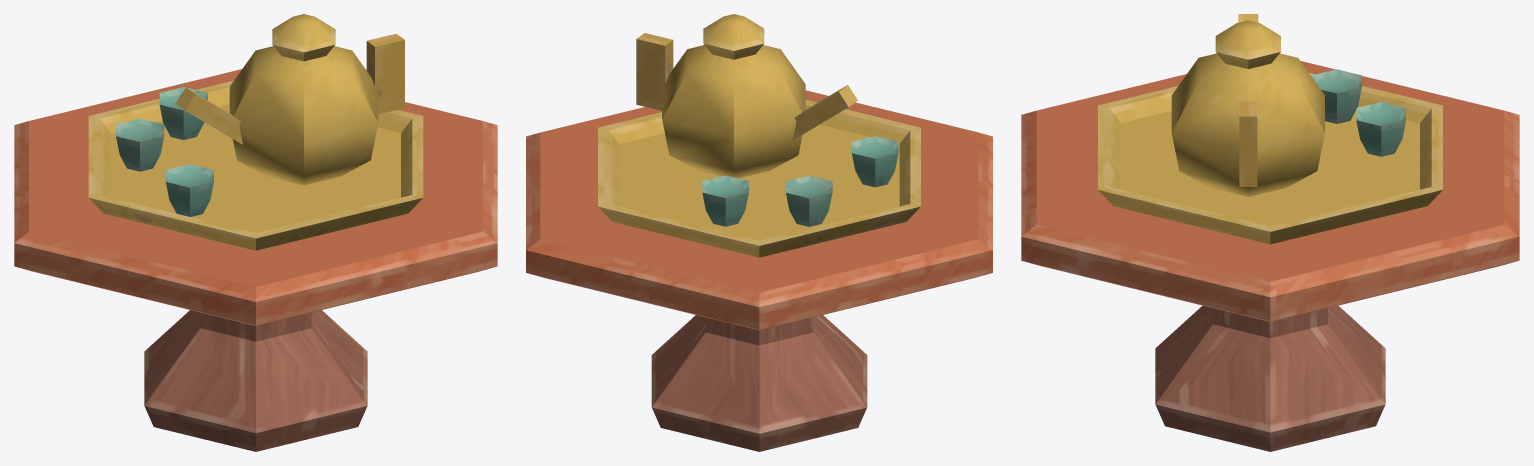
File: tea_table_low.fbx
3 renders of one model, left to right at view 1: azimuth 30°, elevation 25°; view 2: azimuth 150°, elevation 25°; view 3: azimuth 270°, elevation 25°, orthographic. The views are drawn at different scales.
Visible parts, largest first — view 1: tea_table; view 2: tea_table; view 3: tea_table.
Part boxes in pixels (box(x1,y1,x2,y2)): tea_table: box(14, 14, 497, 451); tea_table: box(526, 14, 992, 451); tea_table: box(1021, 14, 1519, 451).
Size of the model in its own units: 2.6 by 1.96 by 2.25.
1 material, 1 textured.
